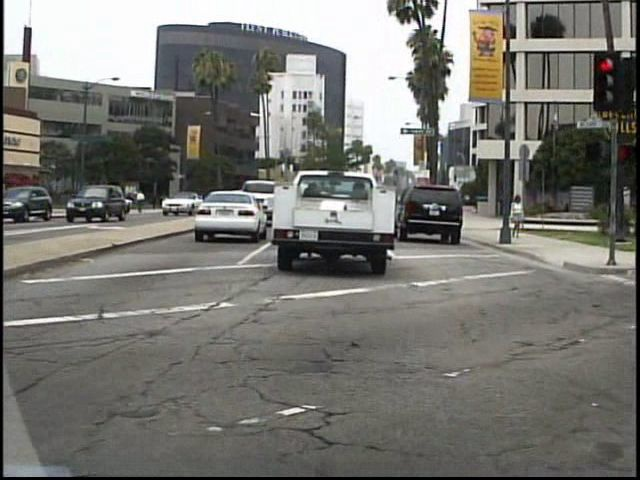person: (508, 190, 527, 240), (134, 186, 150, 218)
